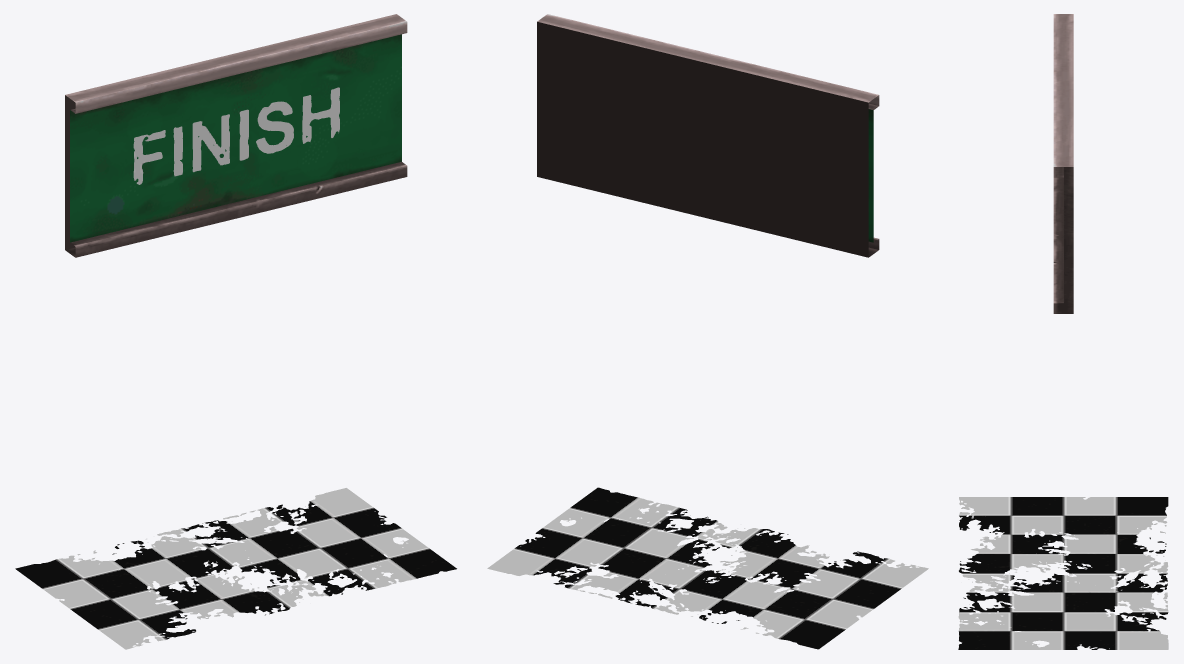
File: prop_finish_mid.fbx
3 renders of one model, left to right at view 1: azimuth 30°, elevation 25°; view 2: azimuth 150°, elevation 25°; view 3: azimuth 270°, elevation 25°, orthographic. The views are drawn at different scales.
Visible parts, largest first — view 1: goal_mid, goal_mid_transparent; view 2: goal_mid, goal_mid_transparent; view 3: goal_mid_transparent, goal_mid.
Part boxes in pixels (x1,y1,x2,y2): goal_mid: [65, 14, 407, 257]; goal_mid_transparent: [15, 87, 456, 649]; goal_mid: [537, 14, 879, 257]; goal_mid_transparent: [487, 487, 928, 649]; goal_mid_transparent: [958, 497, 1168, 649]; goal_mid: [1053, 14, 1073, 313].
Bounding box in the file's own units: 66.67 × 98.04 × 38.84.
1 material, 1 textured.
